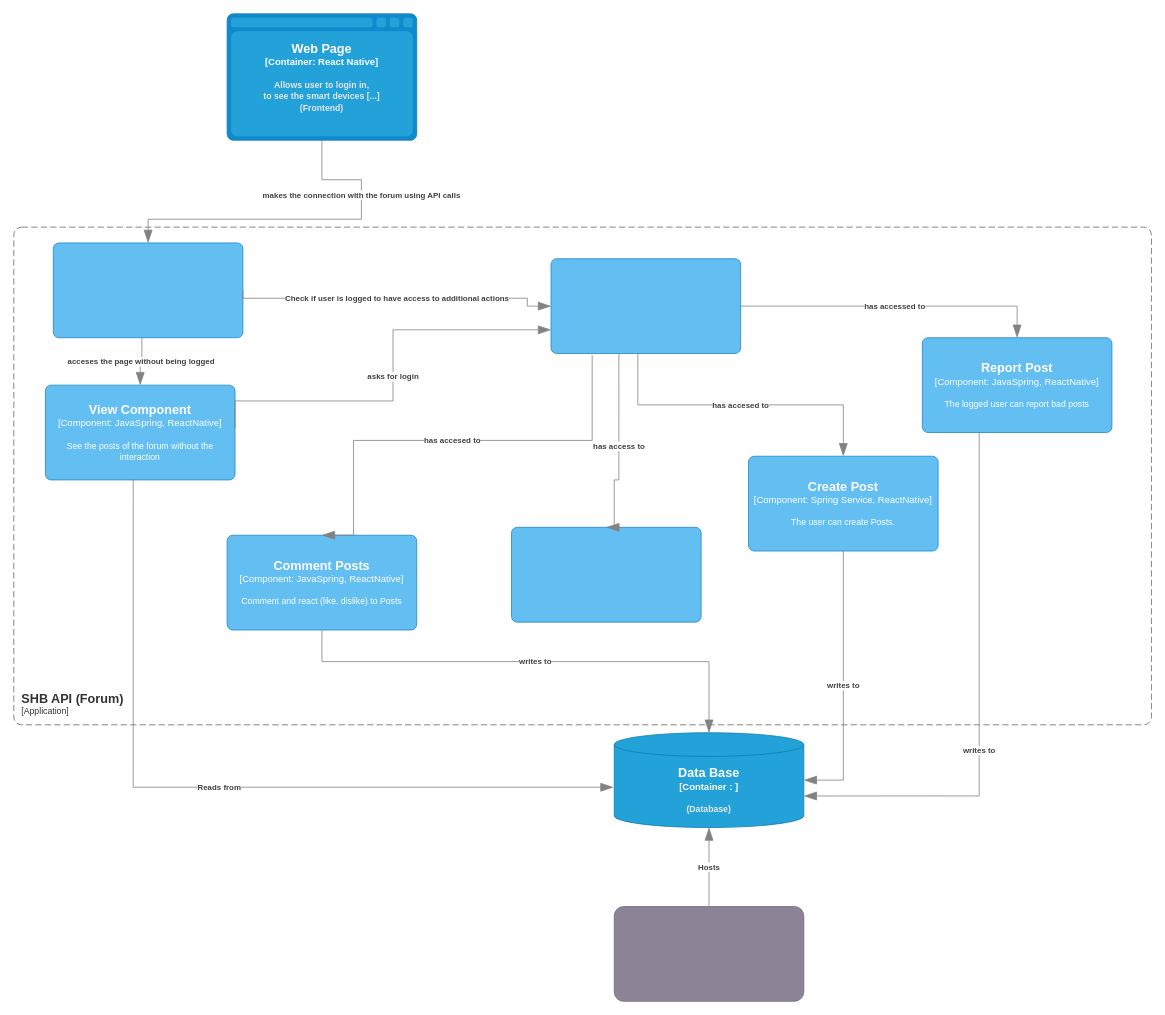
Some shapes in this 1165 by 1015 pixel diagram are drawn without their labels. The centre of each missing label's shape, as x and y in pixels:
Enter Forum [Component: JavaSpring, ReactNative] It enters the forum web page.: (148,290)
Hosting provider [Software System] Hosts the application.: (708,953)
Logged Controller [Component: JavaSpring] Verifies if the user is logged: (645,306)
Share Posts [Component: JavaSpring, ReactNative] The logged users can share: (606,574)
